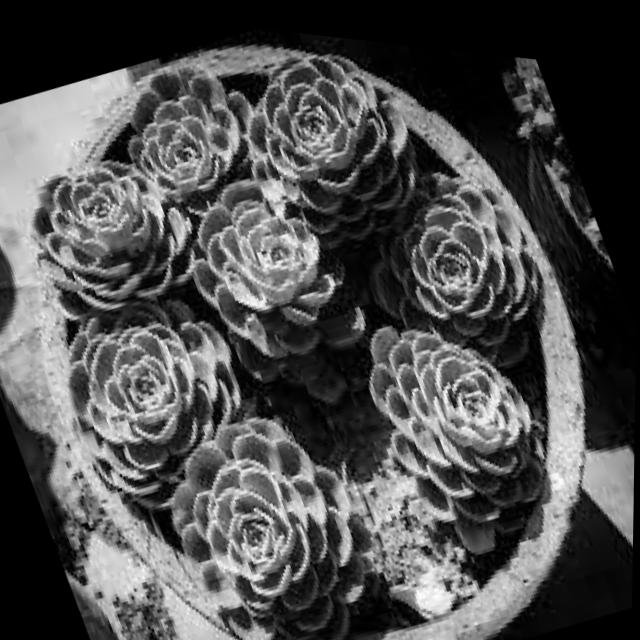Flower: (141, 367, 409, 640), (329, 266, 577, 557), (27, 237, 272, 508), (327, 112, 559, 368), (156, 126, 369, 374), (203, 18, 428, 247), (5, 119, 204, 327), (97, 36, 260, 213)
